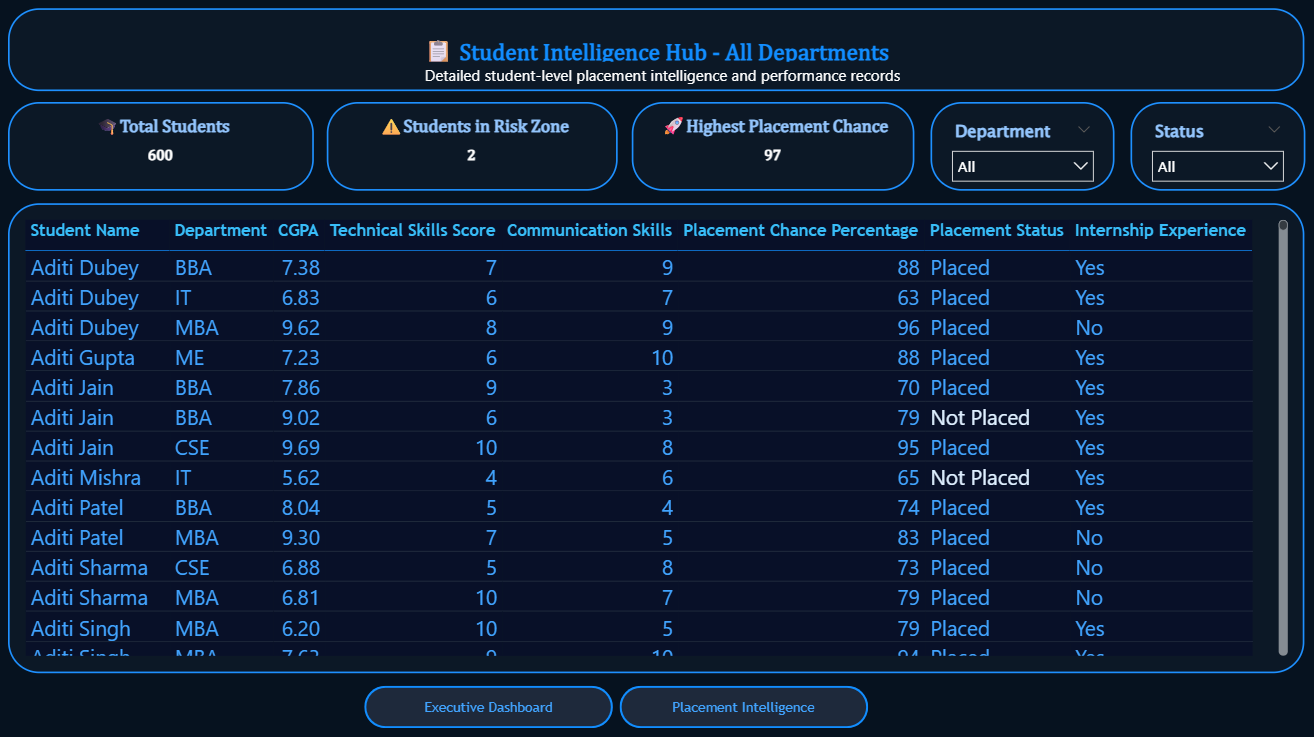

The dashboard page shown, as its layout file describes it:
{"tool":"powerbi","page":{"name":"Student Intelligence Table","canvas":[1280,720],"ordinal":2},"visuals":[{"type":"cardVisual","fields":{"Data":["student_data.Dynamic Hub Title"]},"box":[14.3,15.5,1251.5,80.3],"z":0},{"type":"slicer","fields":{"Values":["student_data.Department"]},"box":[905.4,106.1,178,85.9],"z":1000},{"type":"slicer","fields":{"Values":["student_data.Placement Status"]},"box":[1097.4,106.1,168.6,85.9],"z":2000},{"type":"cardVisual","title":"🎓Total Students","fields":{"Data":["student_data.Total Students"]},"box":[14,106.1,295,85.9],"z":3000},{"type":"cardVisual","title":"⚠️Students in Risk Zone","fields":{"Data":["student_data.Risk Students"]},"box":[321.6,106.1,281,85.9],"z":4000},{"type":"cardVisual","title":"🚀Highest Placement Chance","fields":{"Data":["student_data.Highest Placement Chance"]},"box":[616.6,106.1,273.2,85.9],"z":5000},{"type":"tableEx","fields":{"Values":["student_data.Student Name","student_data.Department","student_data.CGPA","student_data.Technical Skills Score","student_data.Communication Skills","student_data.Placement Chance Percentage","student_data.Placement Status","student_data.Internship Experience"]},"box":[14.3,203.4,1251.5,453.4],"z":6000},{"type":"pageNavigator","box":[358.9,669.8,487.1,41.5],"z":7000},{"type":"textbox","box":[344.6,64.8,602.4,41.5],"z":8000}]}

Visuals, with their boxes in screenshot pixels (x1, y1, x2, y2), scaled from the page's 1280x720 canvas onto the 1314x737 screenshot:
cardVisual - student_data.Dynamic Hub Title: <bbox>15, 16, 1299, 98</bbox>
slicer - student_data.Department: <bbox>929, 109, 1112, 197</bbox>
slicer - student_data.Placement Status: <bbox>1127, 109, 1300, 197</bbox>
"🎓Total Students" cardVisual: <bbox>14, 109, 317, 197</bbox>
"⚠️Students in Risk Zone" cardVisual: <bbox>330, 109, 619, 197</bbox>
"🚀Highest Placement Chance" cardVisual: <bbox>633, 109, 913, 197</bbox>
tableEx - student_data.Student Name x student_data.Department: <bbox>15, 208, 1299, 672</bbox>
pageNavigator: <bbox>368, 686, 868, 728</bbox>
textbox: <bbox>354, 66, 972, 109</bbox>
